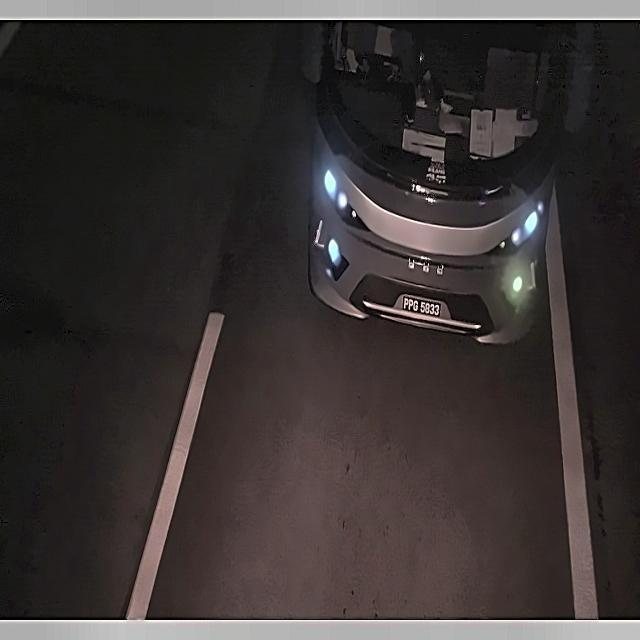car: (401, 293, 443, 326)
